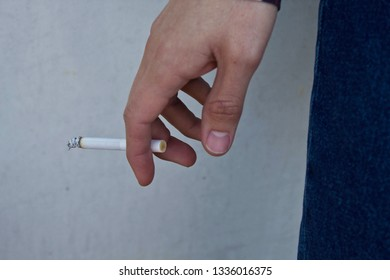cigarette: (63, 133, 169, 155)
